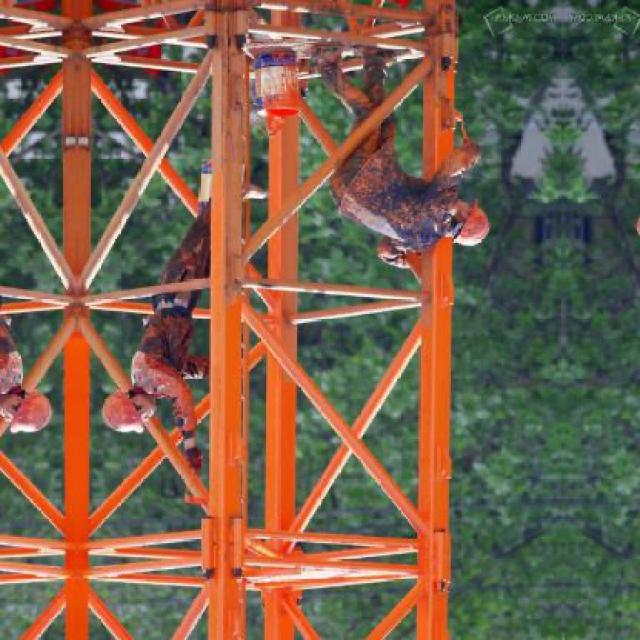con casco: (99, 358, 174, 444), (0, 362, 66, 447), (427, 202, 503, 266)
